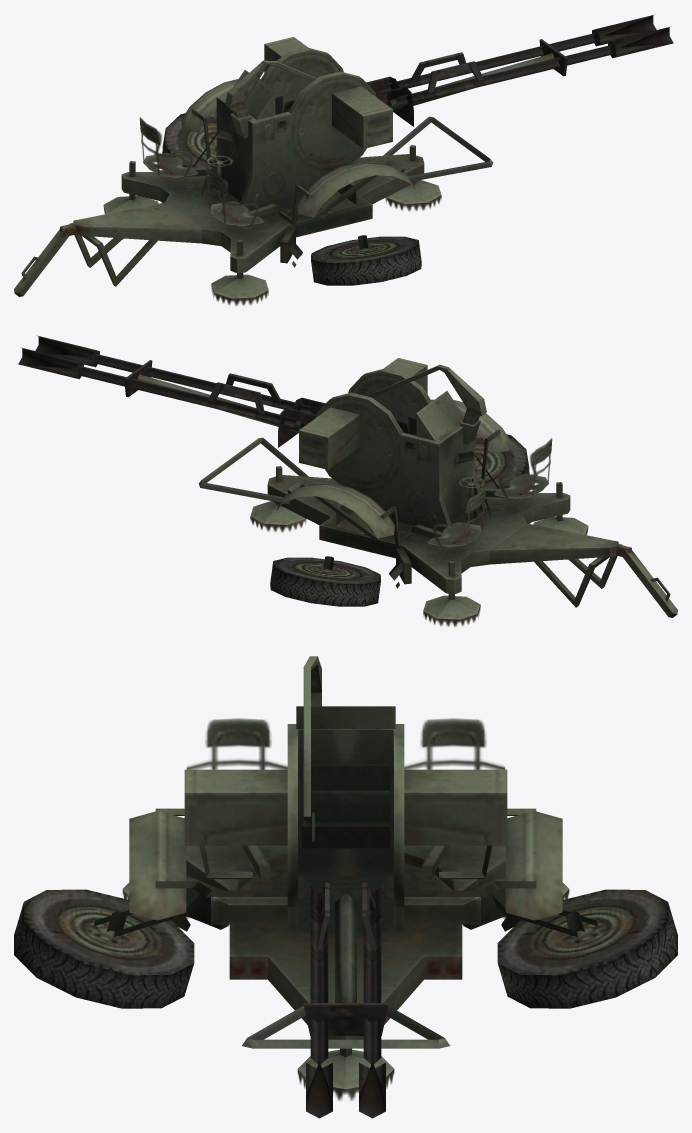
The model's file is AAGN03.glb.
3 views of the same model, one above another, from view 1: azimuth 30°, elevation 25°; view 2: azimuth 150°, elevation 25°; view 3: azimuth 270°, elevation 25° (orthographic). The views are drawn at different scales.
Parts seen in each view (by area): view 1: _AAGN03; view 2: _AAGN03; view 3: _AAGN03.
Part boxes in pixels (box(x1,y1,x2,y2)): _AAGN03: box(14, 14, 673, 305); _AAGN03: box(18, 335, 677, 626); _AAGN03: box(14, 656, 677, 1118).
Size of the model in its own units: 5.48 by 1.49 by 2.98.
2 materials, 2 textured.
